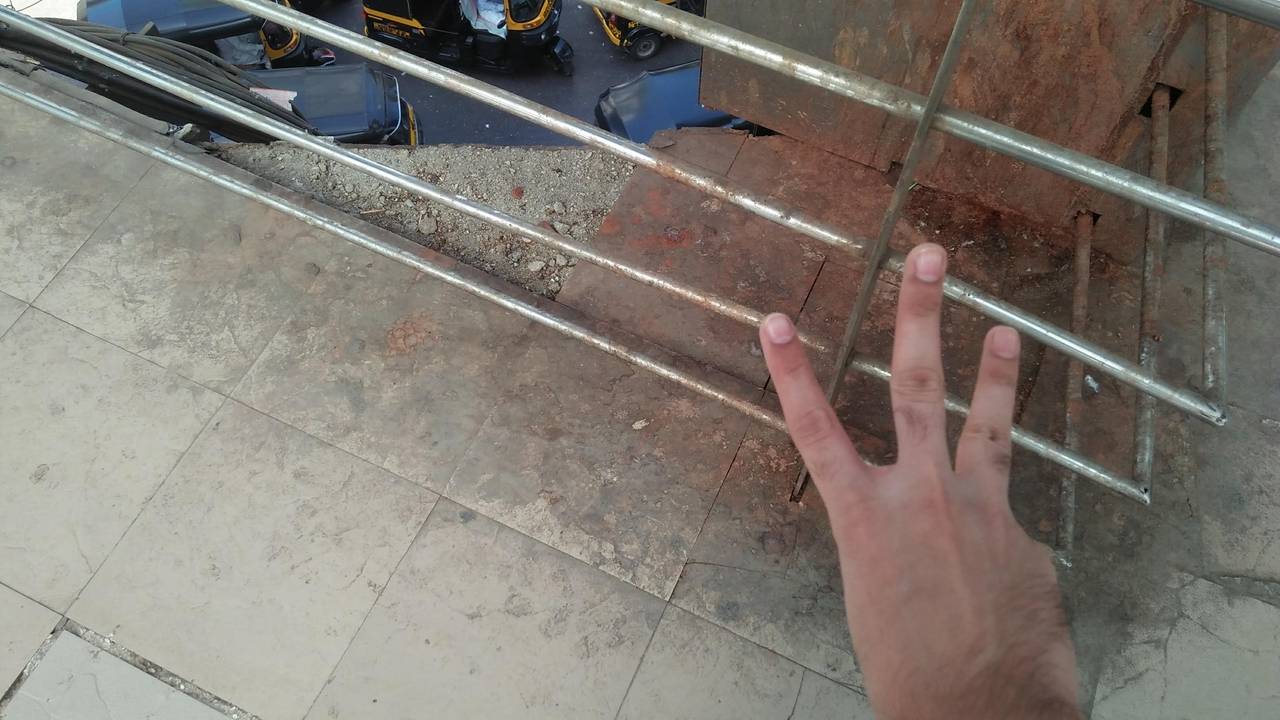fingertip: (900, 234, 954, 294), (754, 306, 808, 366), (980, 320, 1030, 366)
